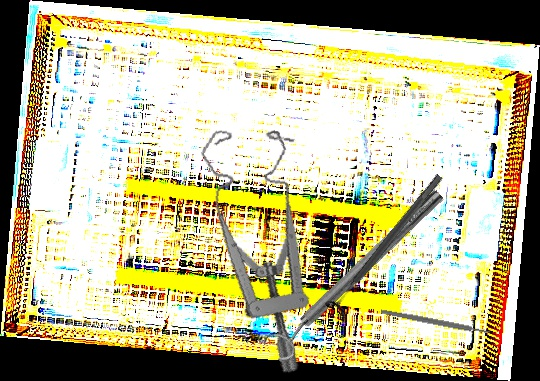Fixation Ring: (259, 182, 454, 366), (323, 167, 451, 321)
Scalpel Handle: (380, 308, 491, 336)
Speculum: (162, 117, 344, 376)
